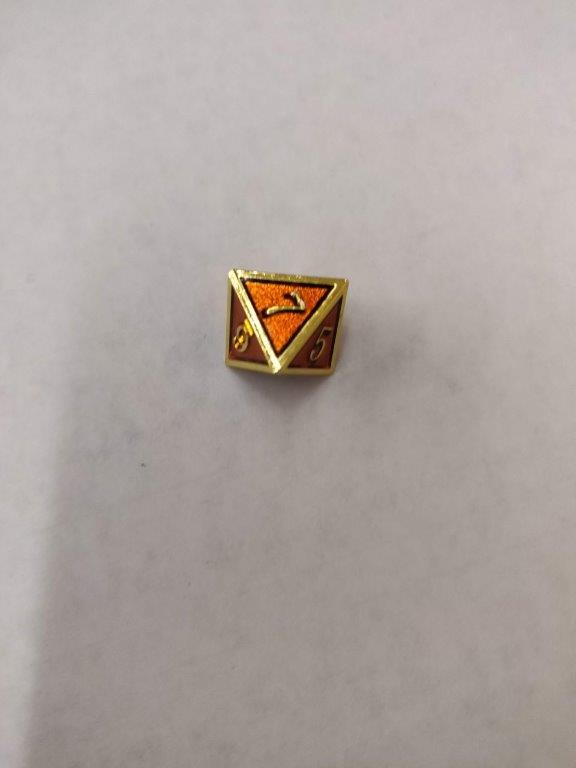d8-7: (223, 268, 349, 381)
